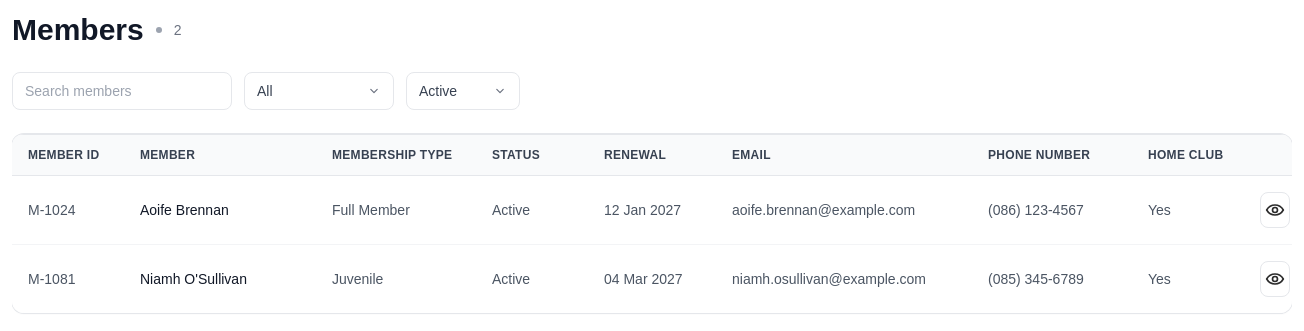
it: MembersPage › rendering › should combine the search query with the existing filters
Select "Juvenile" in the dropdown named "filter by membership type" at (319, 91), box x1=244 y1=72 x2=394 y2=110
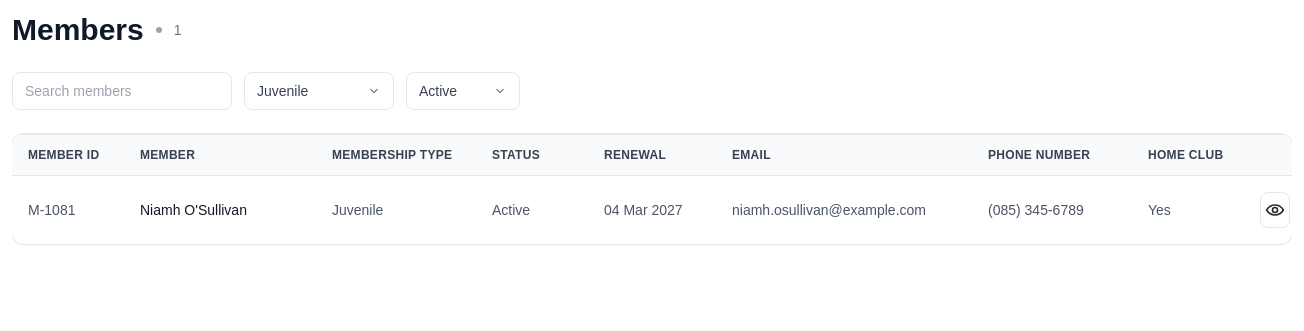
Type "niamh" into the search field labelled "Search members".
click(122, 91); type("niamh")  # box x1=12 y1=72 x2=232 y2=110
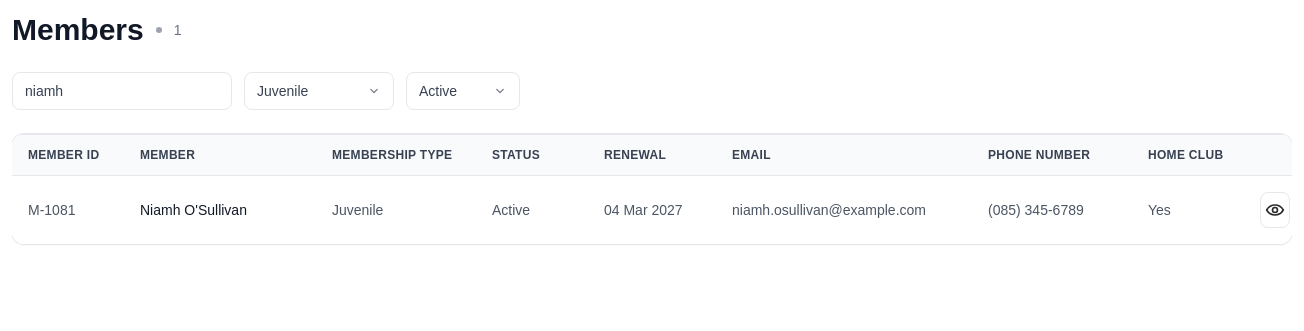
Check: the text "Niamh O'Sullivan" is shown, box x1=124 y1=176 x2=316 y2=244
Check: the text "Aoife Brennan" is not shown
Replace the text in the search field named "Search members" with "aoife" at (122, 91), box x1=12 y1=72 x2=232 y2=110
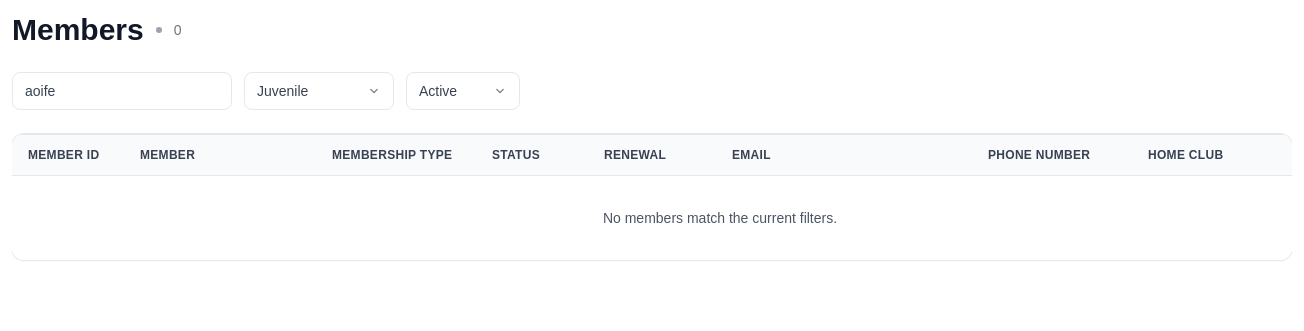
Check: the text "No members match the current filters." is shown, box x1=12 y1=176 x2=1292 y2=260
